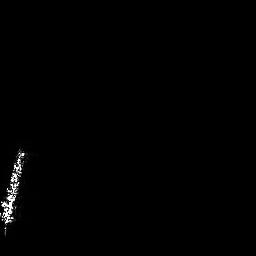ship: (1, 146, 28, 236)
